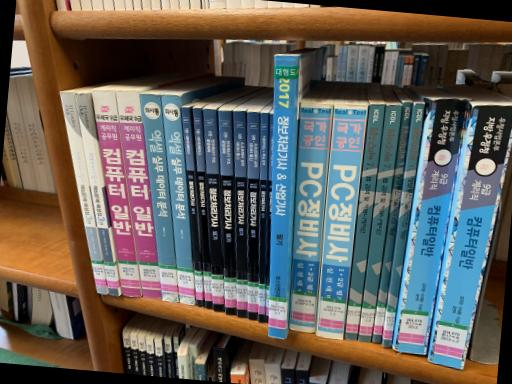book-spine: (427, 104, 512, 370), (394, 98, 470, 354), (317, 104, 367, 340), (288, 102, 333, 332), (91, 91, 141, 296), (383, 103, 424, 347), (359, 104, 401, 342), (373, 102, 413, 342), (344, 103, 384, 340), (115, 91, 161, 297), (60, 92, 106, 293), (74, 93, 119, 295), (268, 55, 297, 338), (141, 94, 178, 302), (161, 95, 194, 305), (181, 108, 202, 307), (203, 109, 223, 312), (193, 108, 212, 309), (218, 110, 236, 314), (233, 111, 247, 318), (247, 112, 260, 319), (259, 112, 268, 322), (265, 113, 273, 323)
